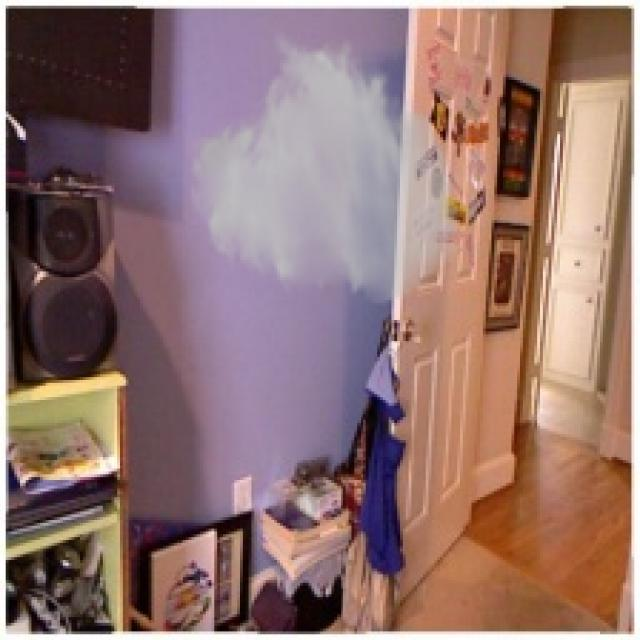Smoke: (186, 29, 463, 308)
